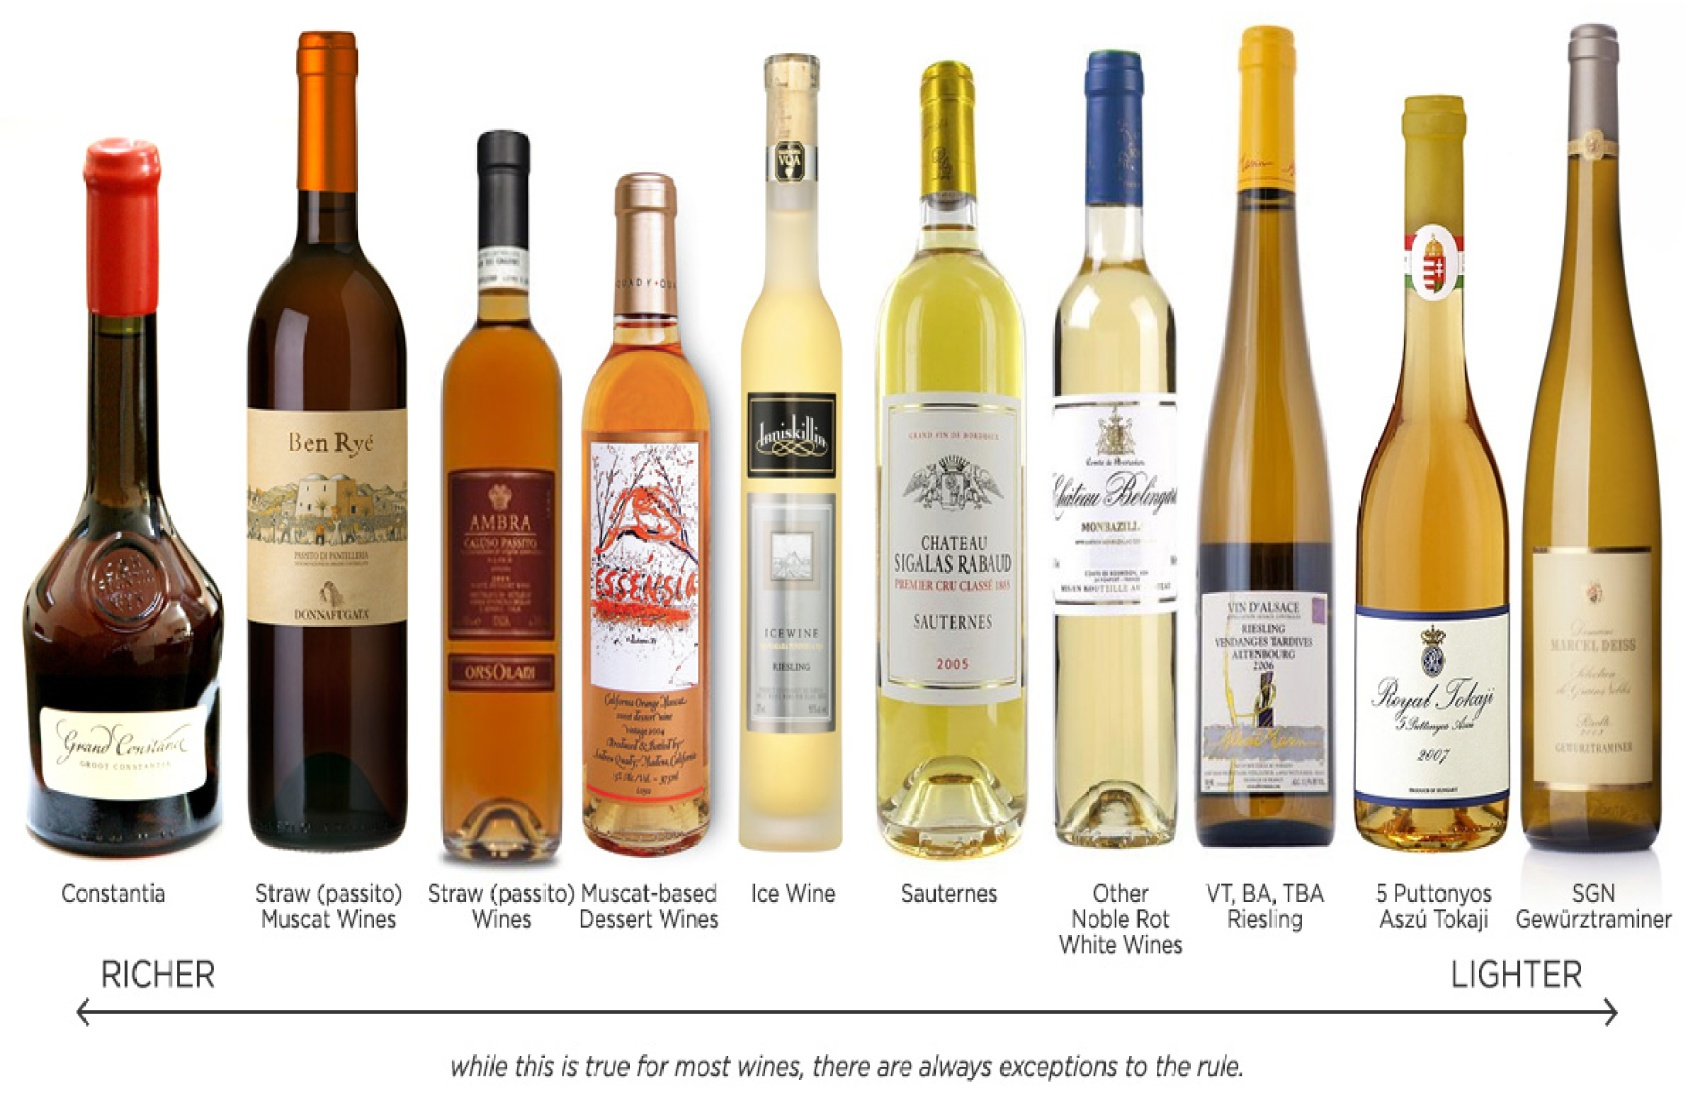wine: (874, 59, 1023, 857), (1192, 40, 1342, 837), (1520, 38, 1667, 850), (1359, 99, 1510, 846), (1046, 53, 1181, 844), (582, 116, 714, 863), (441, 66, 563, 862), (746, 71, 848, 862)
